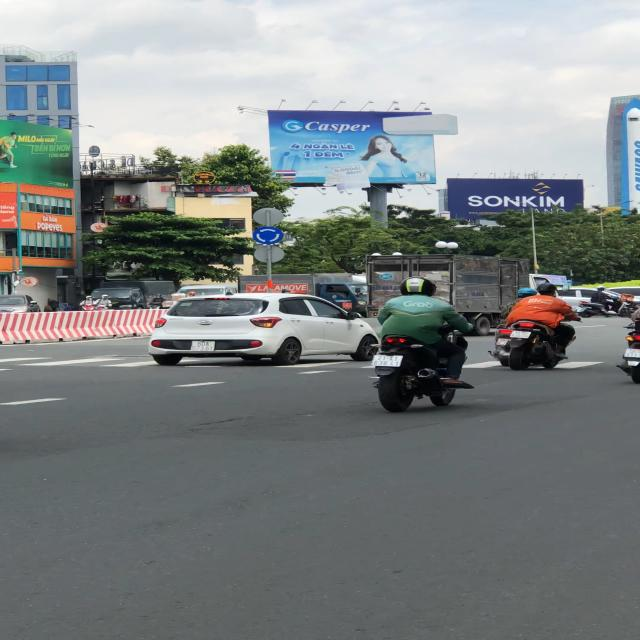Bien bao noi giao nhau chay theo vong xuyen: (251, 226, 285, 246)
